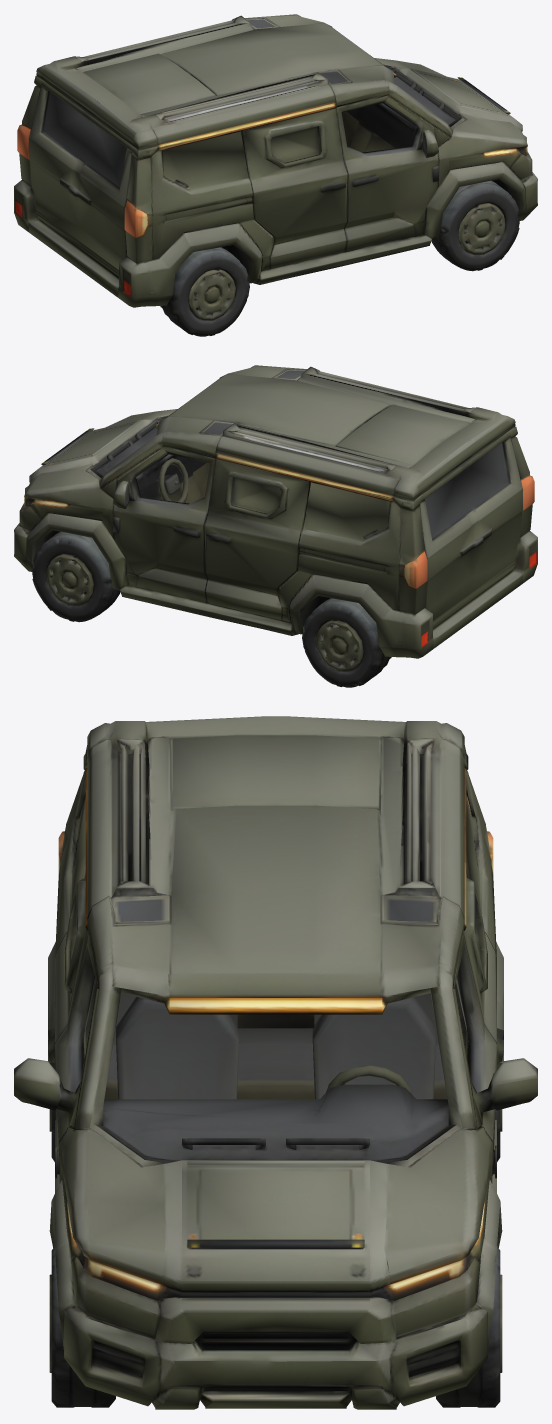
The model's file is van.glb.
The picture shows the model from 3 angles, top to bottom: view 1: azimuth 30°, elevation 25°; view 2: azimuth 150°, elevation 25°; view 3: azimuth 270°, elevation 25°; orthographic projection. The views are drawn at different scales.
Visible parts, largest first — view 1: tripo_node_78db675d-3056-4a56-910e-427a4070da66; view 2: tripo_node_78db675d-3056-4a56-910e-427a4070da66; view 3: tripo_node_78db675d-3056-4a56-910e-427a4070da66.
Boxes of the visible parts, bbox=[...] form: tripo_node_78db675d-3056-4a56-910e-427a4070da66: bbox=[14, 14, 537, 336]; tripo_node_78db675d-3056-4a56-910e-427a4070da66: bbox=[14, 365, 537, 687]; tripo_node_78db675d-3056-4a56-910e-427a4070da66: bbox=[14, 716, 537, 1409].
Size of the model in its own units: 0.9821 by 0.4613 by 0.5631.
1 material, 1 textured.
